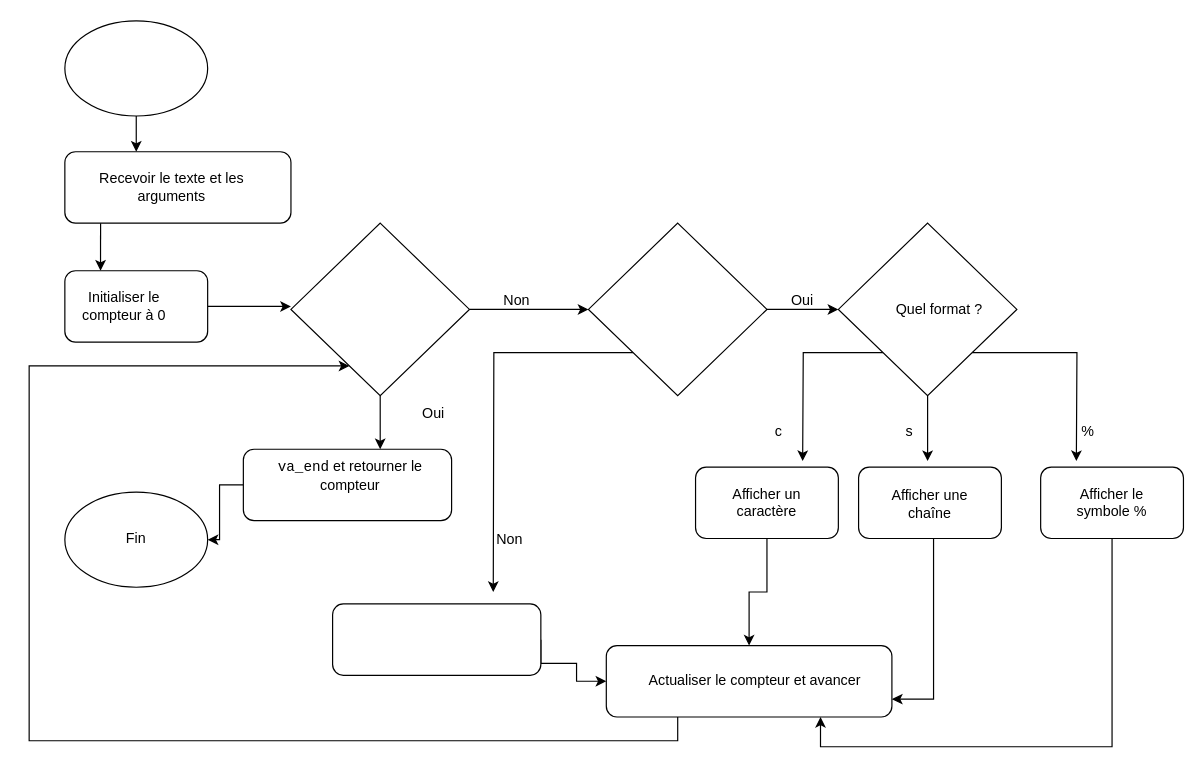
This 1204x777 diagram has some shape labels left out. Here are the shapes that lost their labels. From the top down, the centre of each, then its label:
point 136,68: Début
point 379,309: Fin du text ?
point 677,309: Symbole % ?
point 436,639: Afficher le caractère normal
